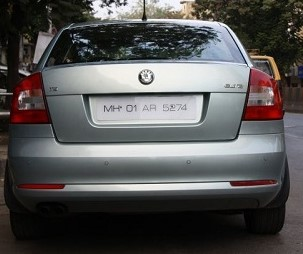MH01AR5274: (96, 96, 199, 121)
